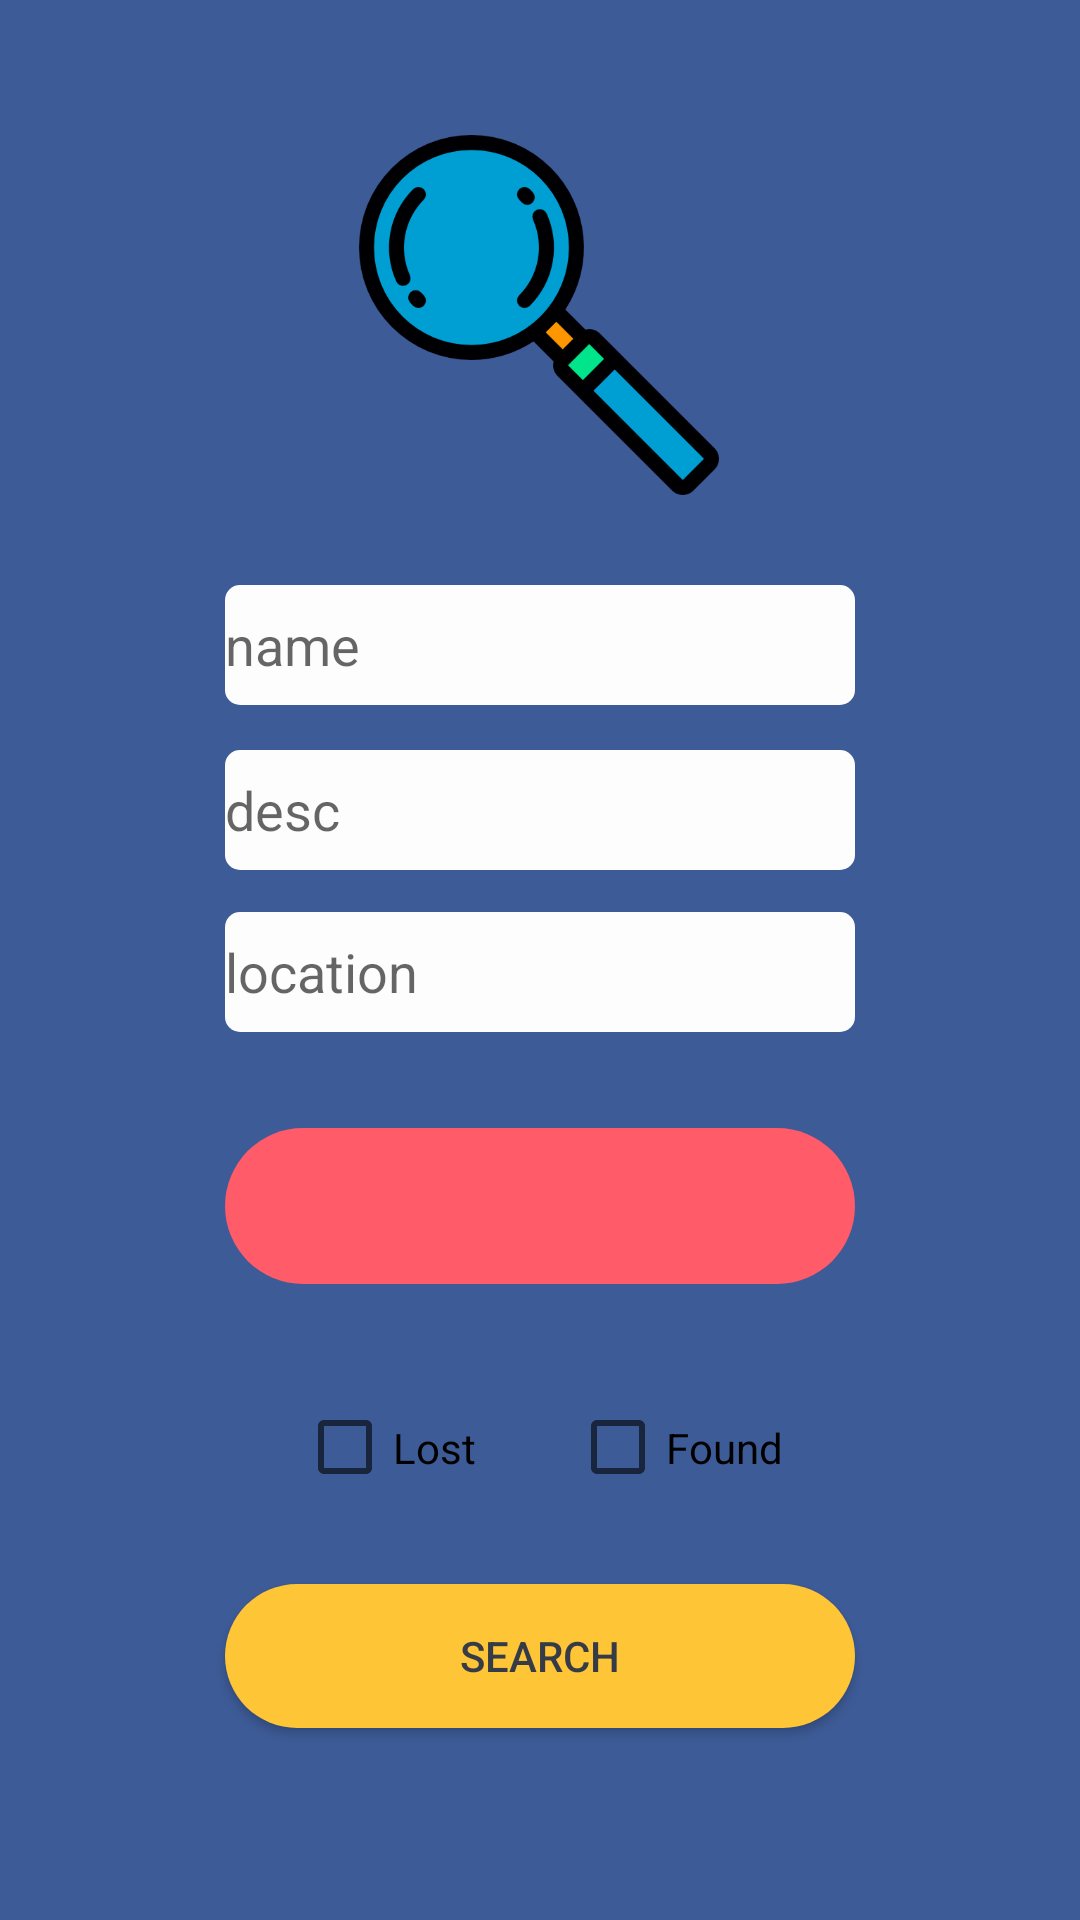

Screen size 1080px×1920px. Icon name, then its box in pixels as (x1, y1, x2, y2):
glass: (359, 135, 719, 495)
